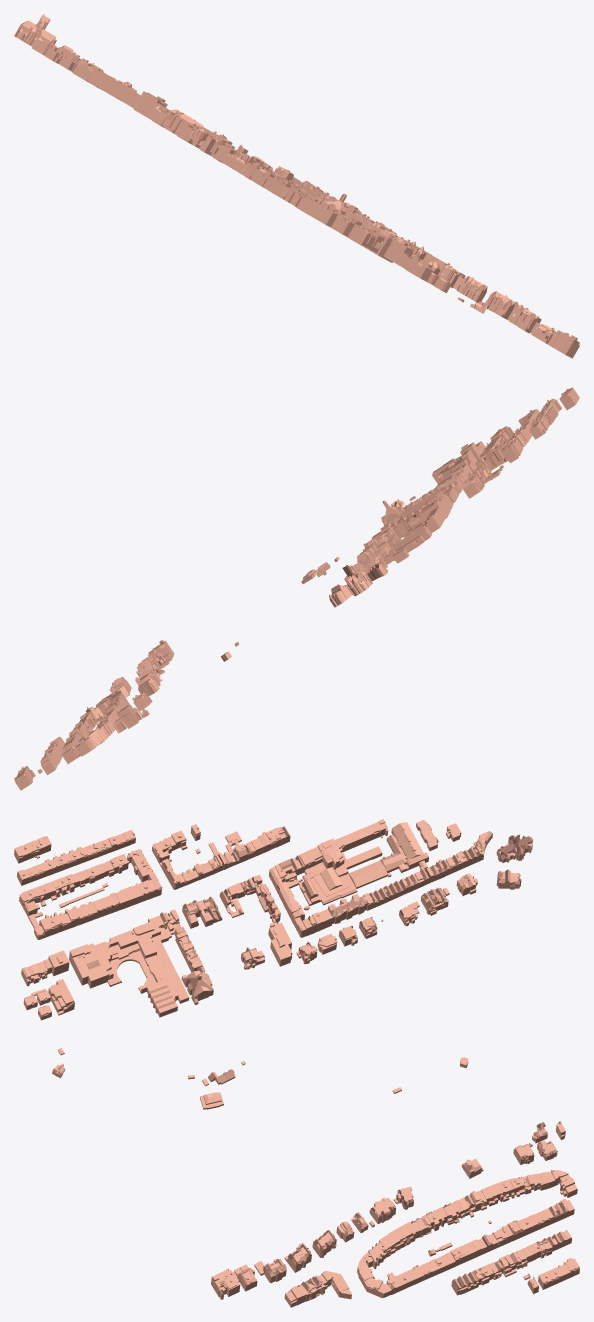
3 views of the same model, one above another, from view 1: azimuth 30°, elevation 25°; view 2: azimuth 150°, elevation 25°; view 3: azimuth 270°, elevation 25° (orthographic). The views are drawn at different scales.
Bounding box in the file's own units: 1.67e+07 × 1.28e+07 × 2.12e+07.
